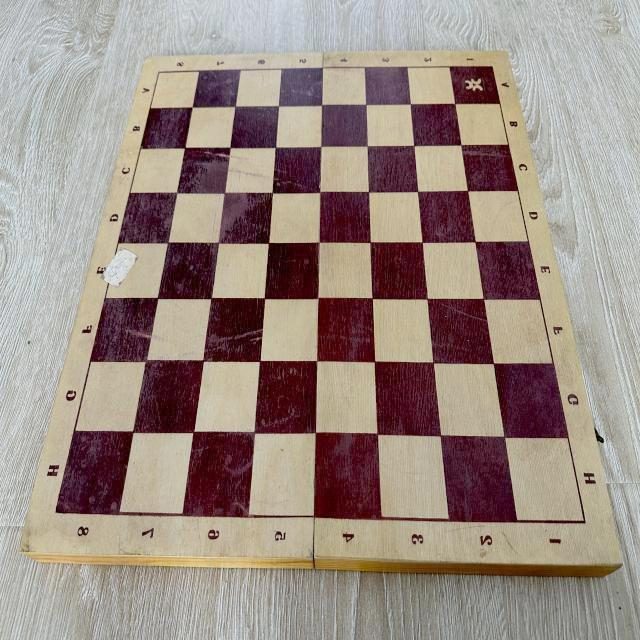chess-table-corners: (574, 508, 596, 534), (48, 502, 62, 524), (153, 62, 166, 82), (486, 59, 498, 74)
